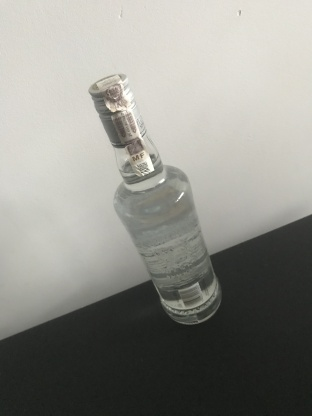nakretka: (86, 71, 147, 148)
